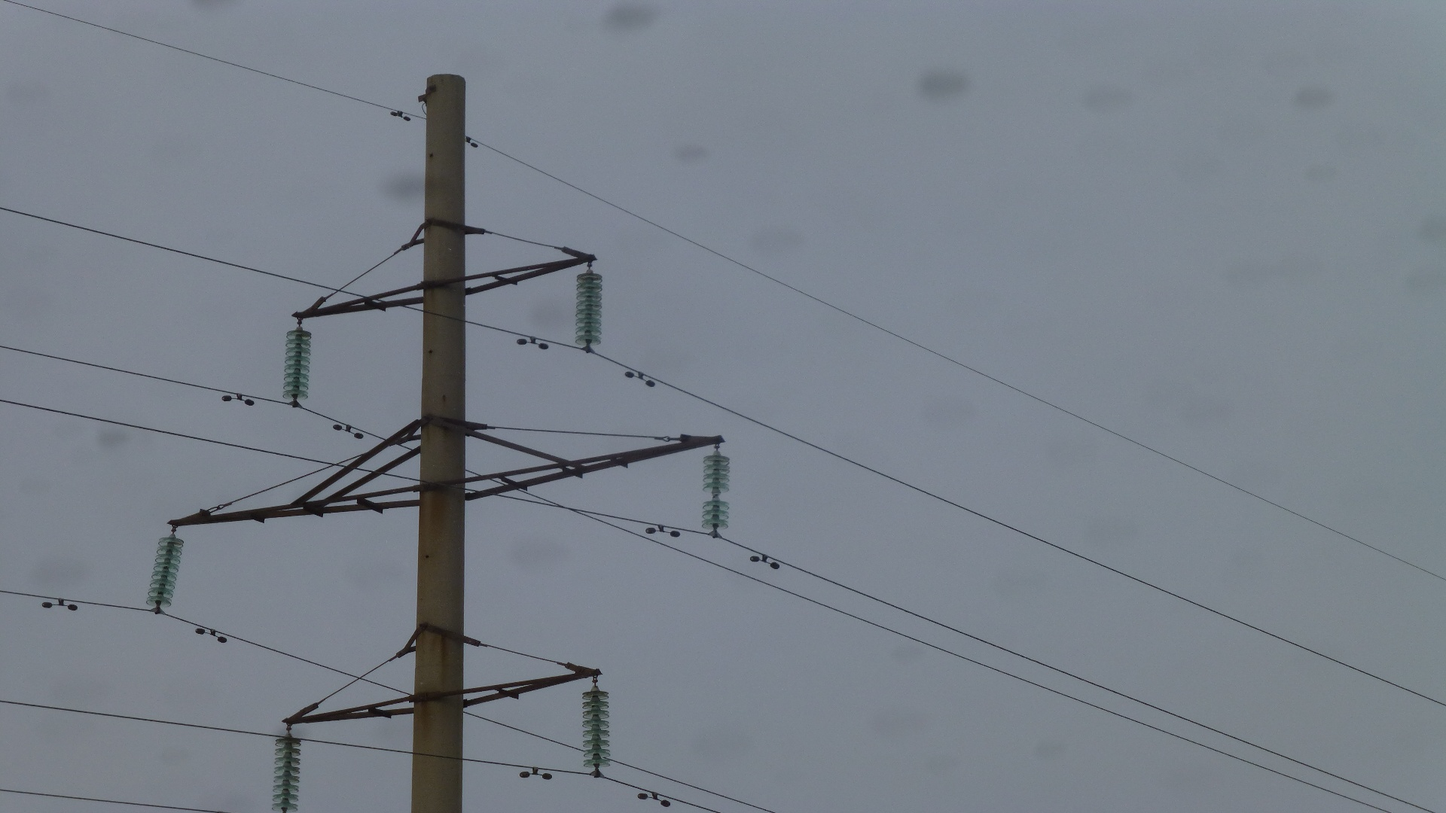insulator: (144, 535, 187, 611), (269, 735, 304, 813), (572, 269, 606, 349), (279, 327, 314, 404), (700, 452, 733, 533), (580, 688, 612, 770)
